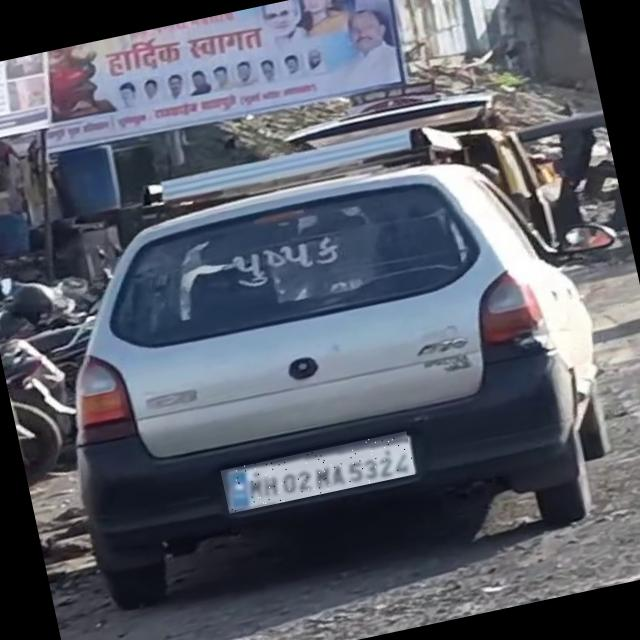Plate: (221, 432, 416, 515)
